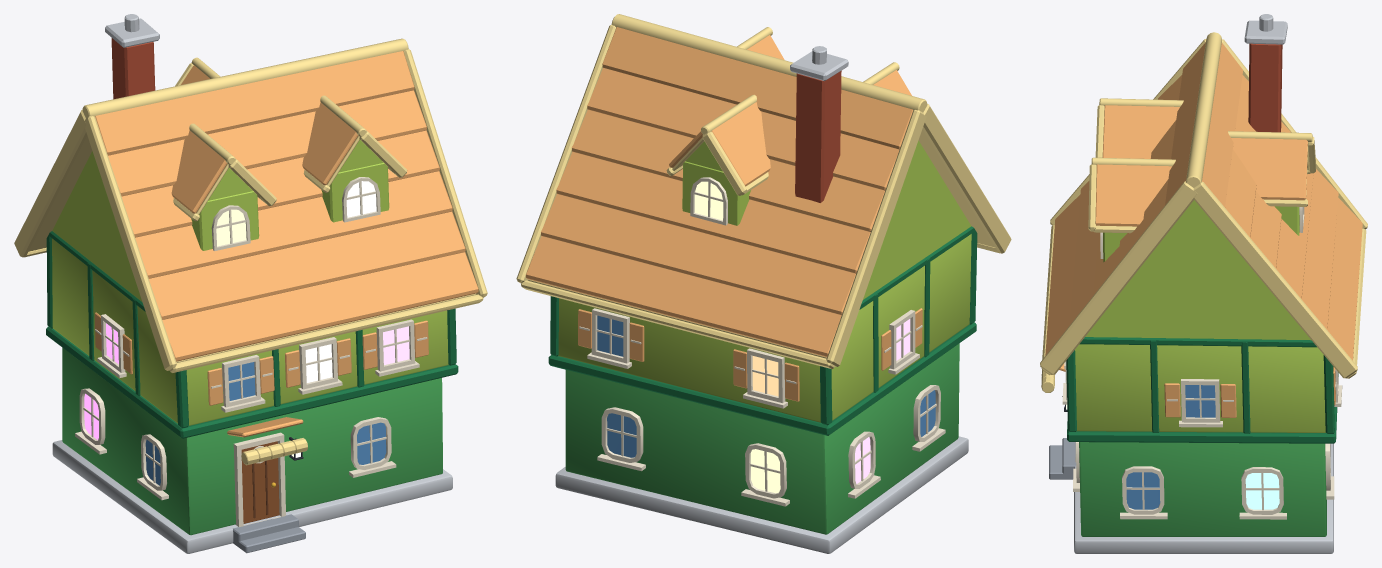
The model's file is casa_torta_lucarnas_verde.glb.
The picture shows the model from 3 angles, left to right: view 1: azimuth 30°, elevation 25°; view 2: azimuth 150°, elevation 25°; view 3: azimuth 270°, elevation 25°; orthographic projection. The views are drawn at different scales.
Parts seen in each view (by area): view 1: casa_torta_lucarnas_verde; view 2: casa_torta_lucarnas_verde; view 3: casa_torta_lucarnas_verde.
Part boxes in pixels (left/top/right/bottom): casa_torta_lucarnas_verde: left=14, top=14, right=487, bottom=553; casa_torta_lucarnas_verde: left=516, top=14, right=1011, bottom=553; casa_torta_lucarnas_verde: left=1040, top=14, right=1367, bottom=553.
Size of the model in its own units: 10.14 by 13.67 by 9.34.
Materials: 8 (1 with a texture image).
